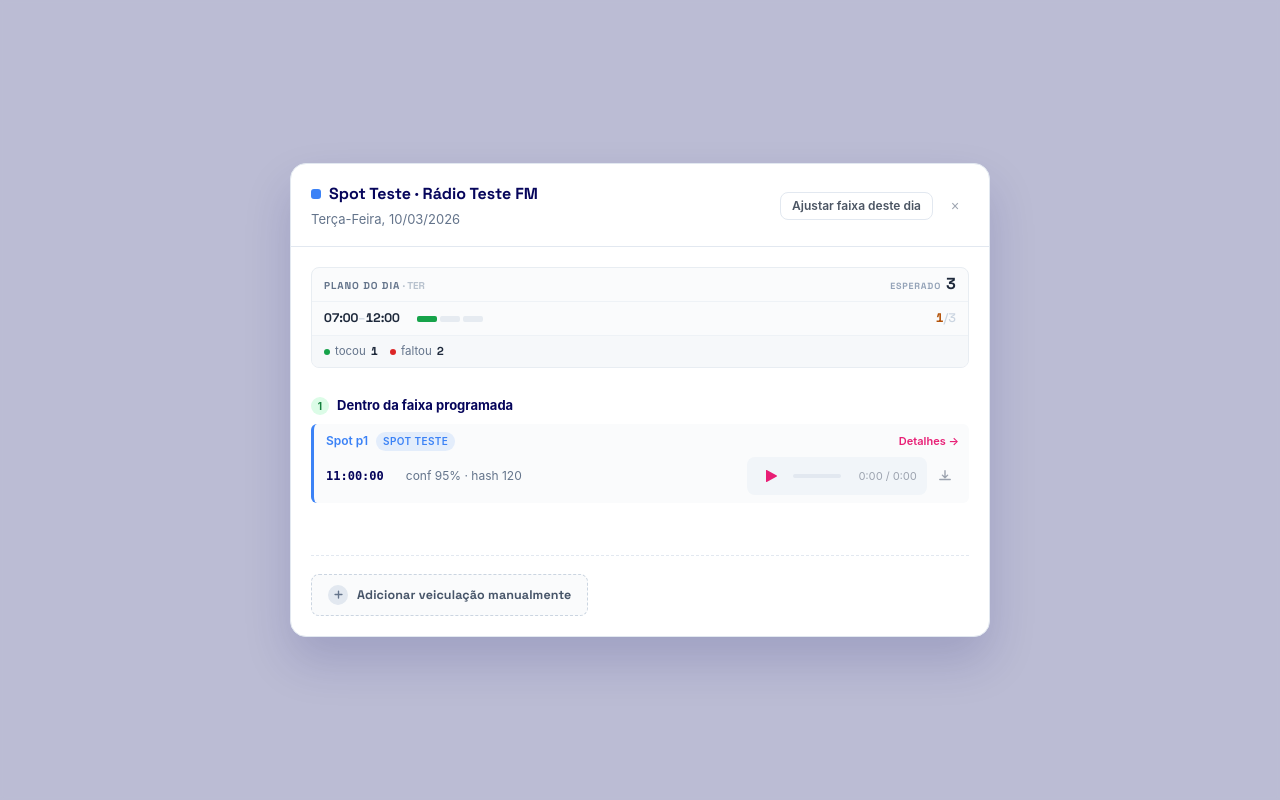
Test: DayDetailModal — áudio da evidência › Reproduzir baixa a evidência pelo proxy da API e passa o player pra "Pausar"
Expected: the text "Spot p1" is shown, [326,432,368,450]
Click the button named "Reproduzir": (771, 476) [757,462,785,490]
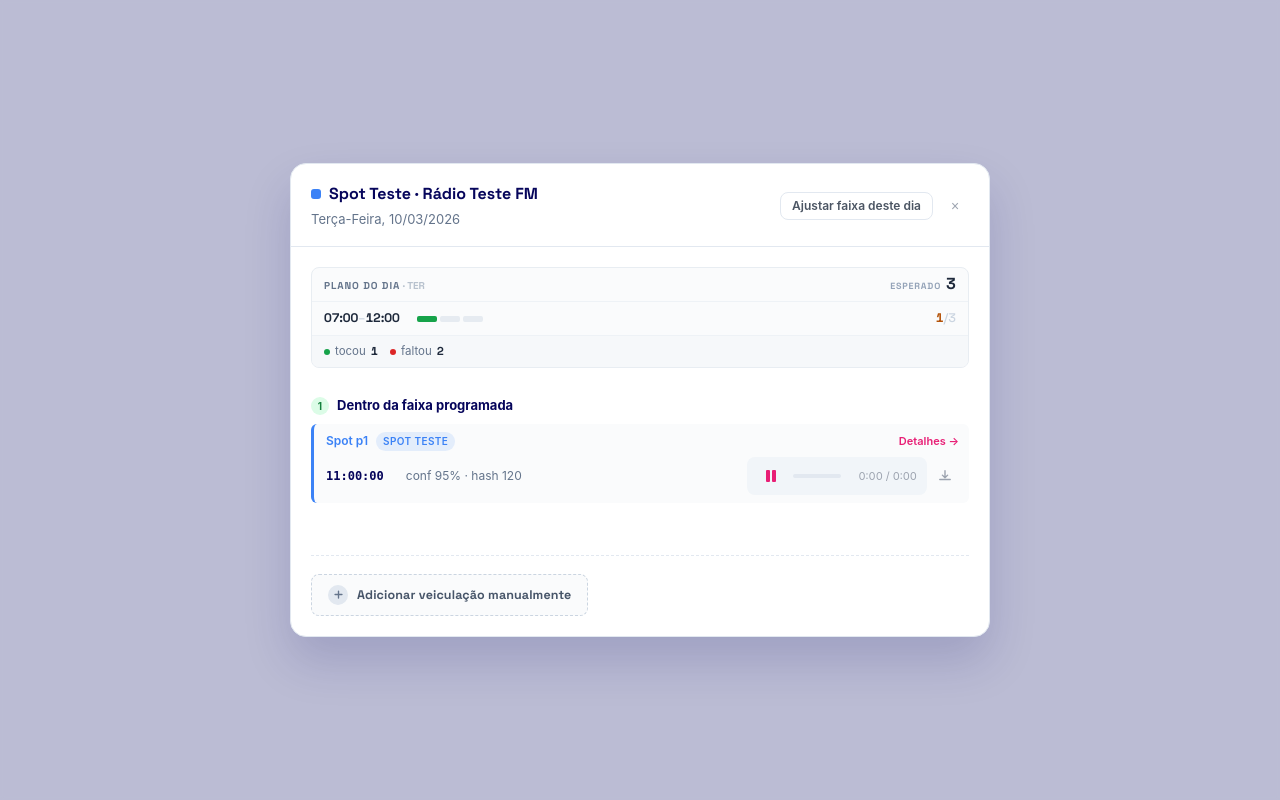
Now the button named "Pausar" is shown
Click the button named "Pausar": (771, 476) [757,462,785,490]
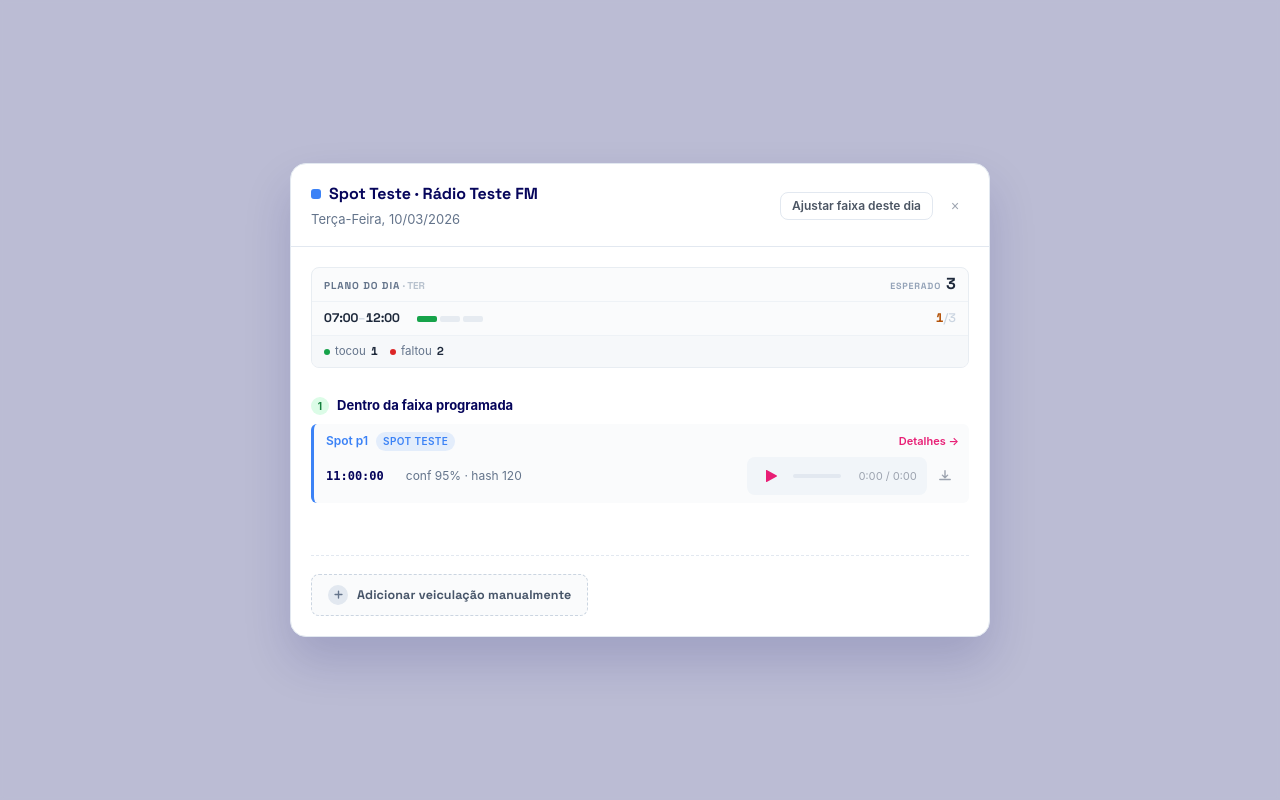
Now the button named "Reproduzir" is shown, box [757,462,785,490]
